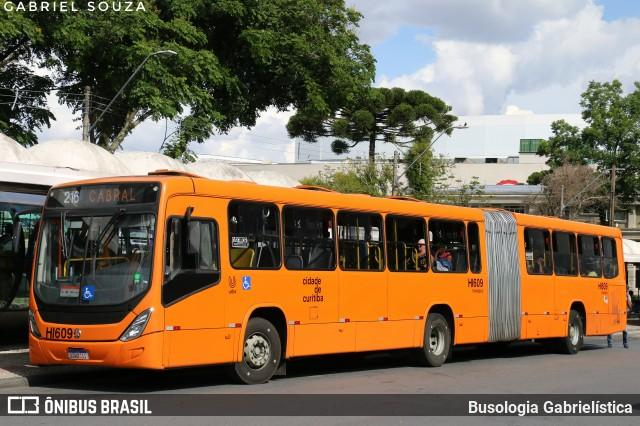CABRAL: (84, 183, 138, 205)
